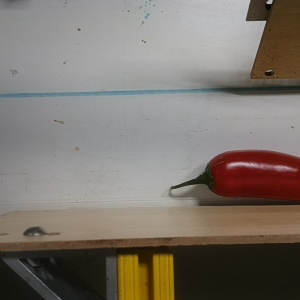Cut Point: (200, 151, 228, 199)
